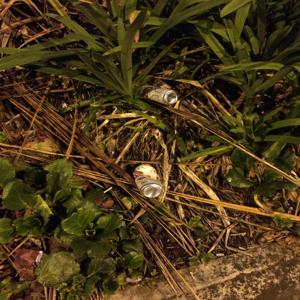metal: (135, 162, 168, 198), (144, 83, 184, 107)
